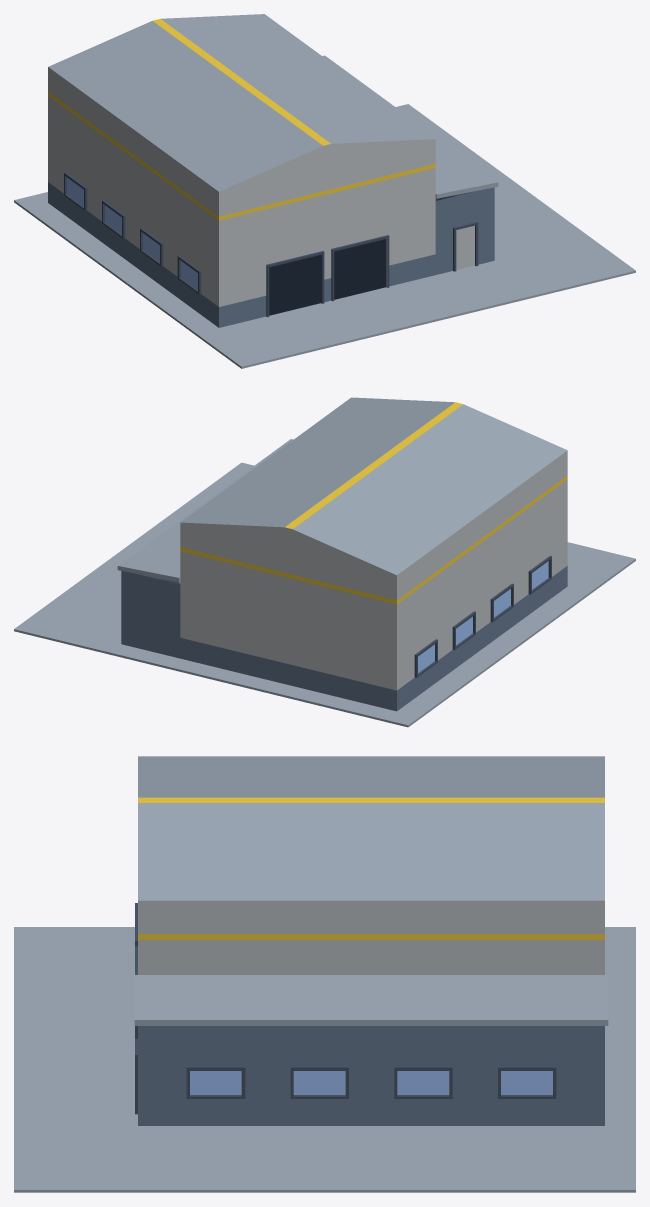
File: factory3.glb
3 renders of one model, top to bottom at view 1: azimuth 30°, elevation 25°; view 2: azimuth 150°, elevation 25°; view 3: azimuth 270°, elevation 25°, orthographic. The views are drawn at different scales.
Visible parts, largest first — view 1: factory3; view 2: factory3; view 3: factory3.
Part boxes in pixels (x1,y1,x2,y2): factory3: (14, 14, 635, 368); factory3: (14, 397, 635, 727); factory3: (14, 756, 635, 1192).
Bounding box in the file's own units: 20 × 7.7 × 20.
